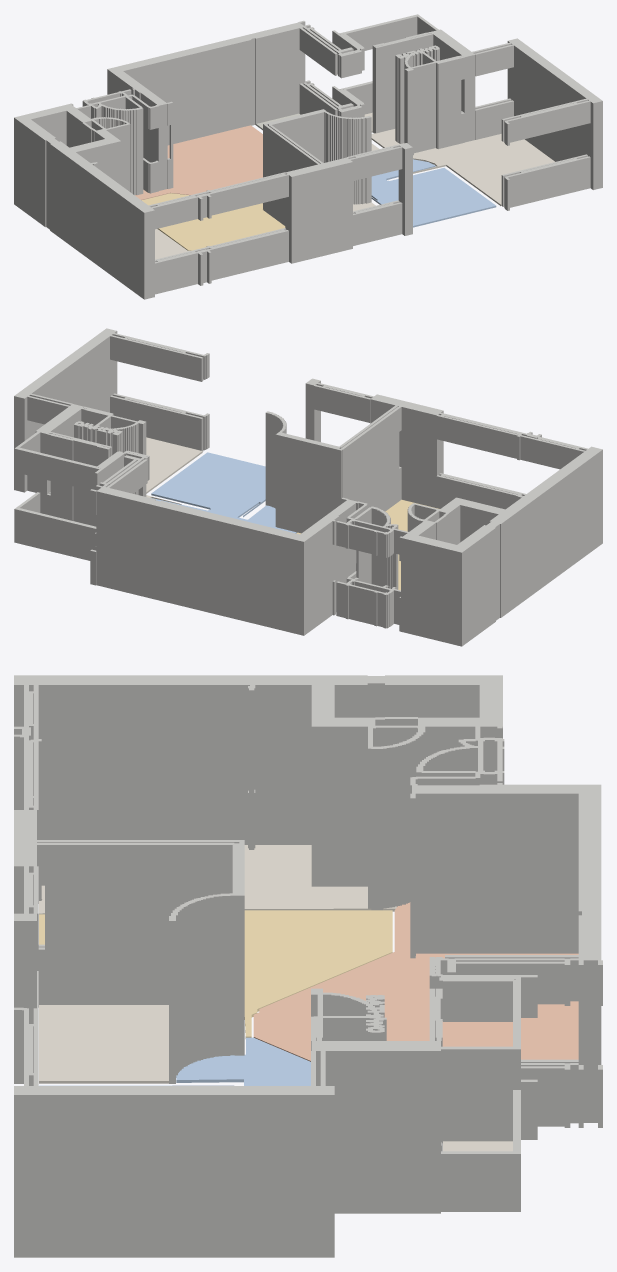
3 renders of one model, top to bottom at view 1: azimuth 30°, elevation 25°; view 2: azimuth 150°, elevation 25°; view 3: azimuth 270°, elevation 25°, orthographic. The views are drawn at different scales.
Visible parts, largest first — view 1: walls, room:kitchen:1, room:other:12, room:bedroom:5, room:living:4, room:other:3; view 2: walls, room:bedroom:5, room:other:12, room:living:4; view 3: walls, room:kitchen:1, room:living:4, room:other:13, room:other:3, room:bedroom:5, room:other:6.
Part boxes in pixels (x1,y1,x2,y2): walls: [14, 14, 602, 299]; room:kitchen:1: [135, 125, 262, 203]; room:other:12: [413, 134, 554, 205]; room:bedroom:5: [371, 159, 496, 227]; room:living:4: [142, 193, 285, 250]; room:other:3: [155, 229, 190, 259]; walls: [14, 328, 602, 646]; room:bedroom:5: [151, 452, 296, 533]; room:other:12: [146, 437, 202, 504]; room:living:4: [296, 499, 439, 590]; walls: [14, 675, 602, 1257]; room:kitchen:1: [253, 902, 578, 1061]; room:living:4: [39, 910, 392, 1038]; room:other:13: [39, 1005, 168, 1083]; room:other:3: [39, 845, 396, 914]; room:bedroom:5: [39, 1037, 310, 1085]; room:other:6: [443, 1141, 512, 1151].
Size of the model in its own units: 15.48 by 2.8 by 9.18.
